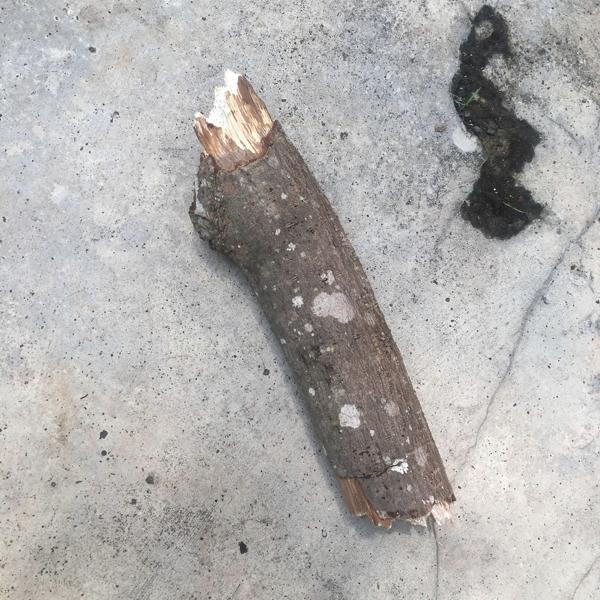Organik: (188, 63, 460, 532)
